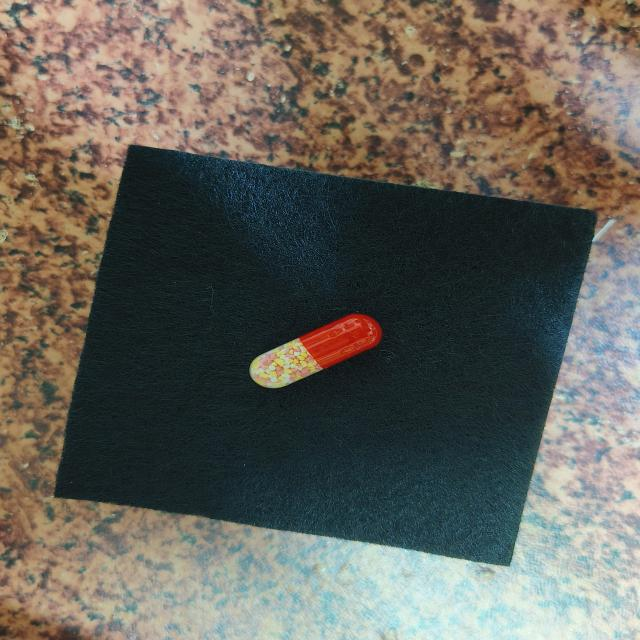Intact Capsule: (249, 314, 382, 388)
